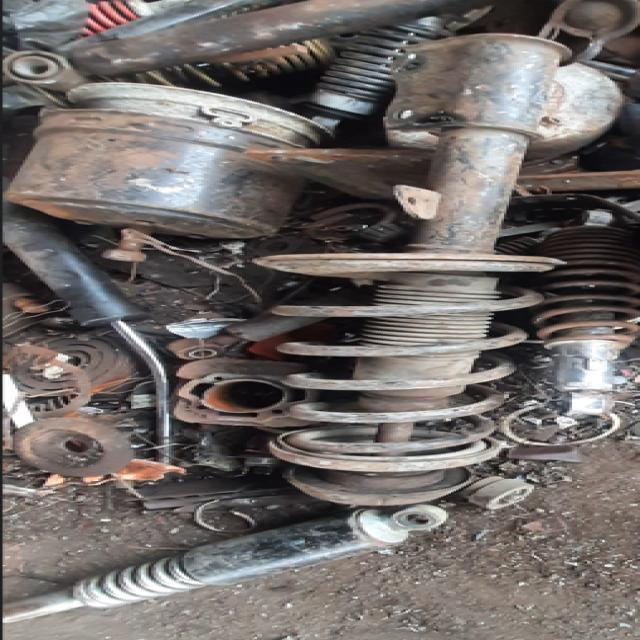shock absorber: (254, 34, 573, 505), (1, 505, 449, 625), (3, 203, 166, 460), (532, 210, 637, 416)
